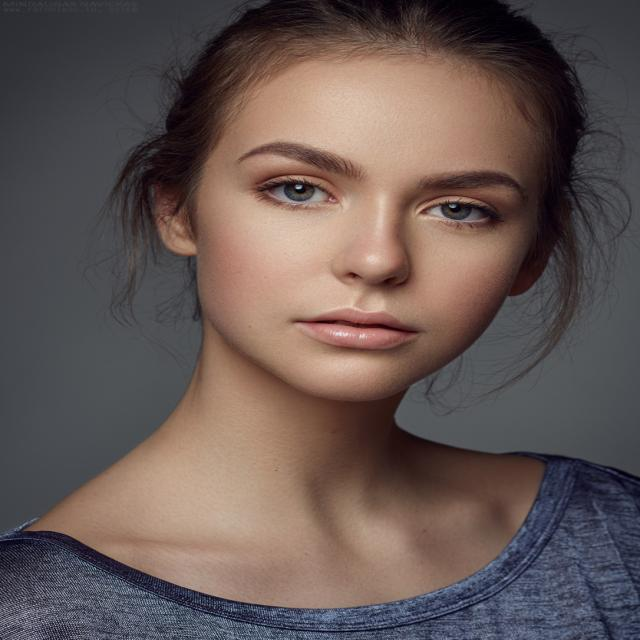earlobe: (507, 193, 571, 298), (149, 148, 198, 258)
